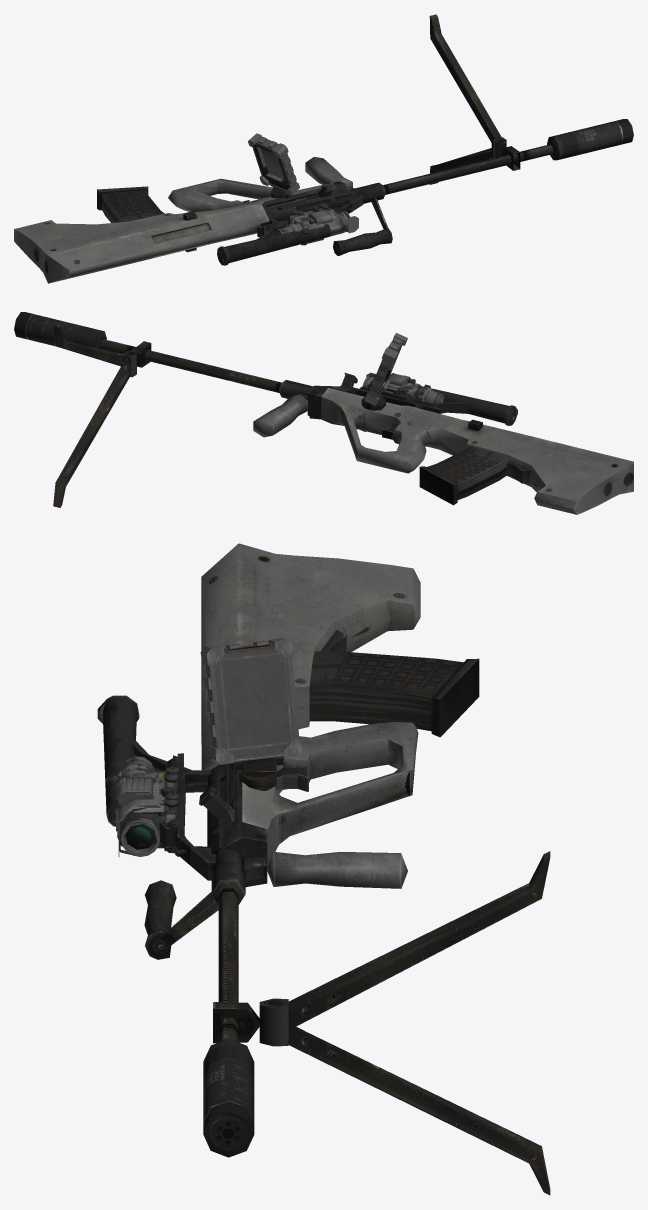
The model's file is weapon_steyr_arctic_LOD0.obj.
3 views of the same model, one above another, from view 1: azimuth 30°, elevation 25°; view 2: azimuth 150°, elevation 25°; view 3: azimuth 270°, elevation 25° (orthographic). The views are drawn at different scales.
Parts seen in each view (by area): view 1: mtl_weapon_steyr_arctic, mtl_weapon_m240, mtl_weapon_suppressor_b, mtl_weapon_steyr_scope, mtl_weapon_motion_tracker_arctic, mtl_weapon_mg_handle, mtl_weapon_steyr_foregrip_arctic, mtl_weapon_thermal_sight_2_arctic, mtl_weapon_acog_2_arctic; view 2: mtl_weapon_steyr_arctic, mtl_weapon_m240, mtl_weapon_suppressor_b, mtl_weapon_steyr_scope, mtl_weapon_motion_tracker_arctic, mtl_weapon_steyr_foregrip_arctic, mtl_weapon_thermal_sight_2_arctic, mtl_weapon_acog_2_arctic; view 3: mtl_weapon_steyr_arctic, mtl_weapon_m240, mtl_weapon_motion_tracker_arctic, mtl_weapon_suppressor_b, mtl_weapon_steyr_foregrip_arctic, mtl_weapon_steyr_scope, mtl_weapon_mg_handle, mtl_weapon_thermal_sight_2_arctic, mtl_weapon_acog_2_arctic.
Part boxes in pixels (<box>): mtl_weapon_steyr_arctic: <box>14,144,553,283</box>; mtl_weapon_m240: <box>429,14,520,184</box>; mtl_weapon_suppressor_b: <box>547,119,633,160</box>; mtl_weapon_steyr_scope: <box>217,209,339,265</box>; mtl_weapon_motion_tracker_arctic: <box>248,133,299,198</box>; mtl_weapon_mg_handle: <box>333,198,392,255</box>; mtl_weapon_steyr_foregrip_arctic: <box>305,157,352,187</box>; mtl_weapon_thermal_sight_2_arctic: <box>288,206,358,236</box>; mtl_weapon_acog_2_arctic: <box>274,204,347,245</box>; mtl_weapon_steyr_arctic: <box>100,339,633,514</box>; mtl_weapon_m240: <box>53,326,151,507</box>; mtl_weapon_suppressor_b: <box>14,312,106,349</box>; mtl_weapon_steyr_scope: <box>361,384,517,425</box>; mtl_weapon_motion_tracker_arctic: <box>361,333,407,410</box>; mtl_weapon_steyr_foregrip_arctic: <box>253,394,307,437</box>; mtl_weapon_thermal_sight_2_arctic: <box>362,372,427,400</box>; mtl_weapon_acog_2_arctic: <box>366,381,444,403</box>; mtl_weapon_steyr_arctic: <box>173,543,479,1042</box>; mtl_weapon_m240: <box>213,851,550,1195</box>; mtl_weapon_motion_tracker_arctic: <box>200,637,301,790</box>; mtl_weapon_suppressor_b: <box>203,1039,254,1157</box>; mtl_weapon_steyr_foregrip_arctic: <box>266,851,407,888</box>; mtl_weapon_steyr_scope: <box>97,695,176,848</box>; mtl_weapon_mg_handle: <box>144,880,218,959</box>; mtl_weapon_thermal_sight_2_arctic: <box>116,763,174,856</box>; mtl_weapon_acog_2_arctic: <box>117,756,178,847</box>.
Size of the model in its own units: 118 by 33.12 by 40.19.
